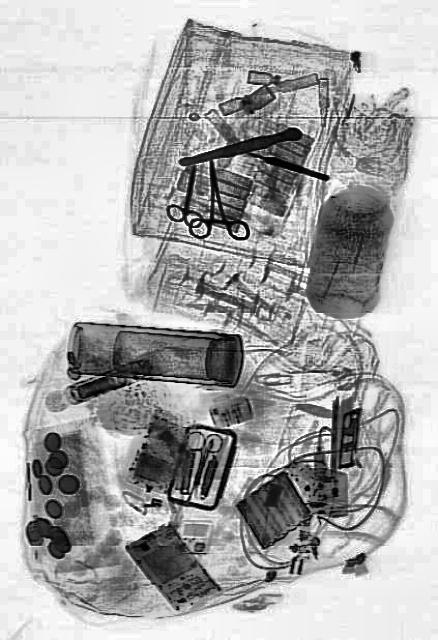Scissors: (182, 149, 248, 249), (164, 152, 212, 230), (178, 424, 222, 490)
